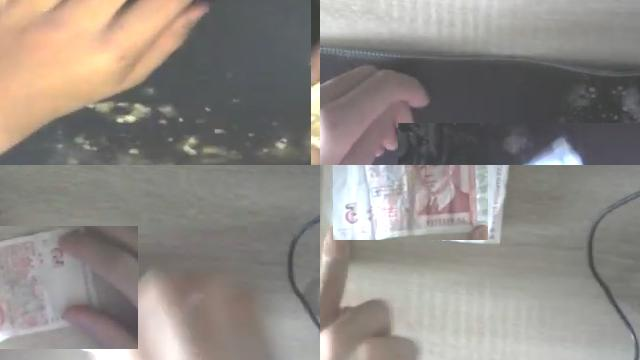5leva: (0, 226, 138, 342), (333, 165, 484, 240)
